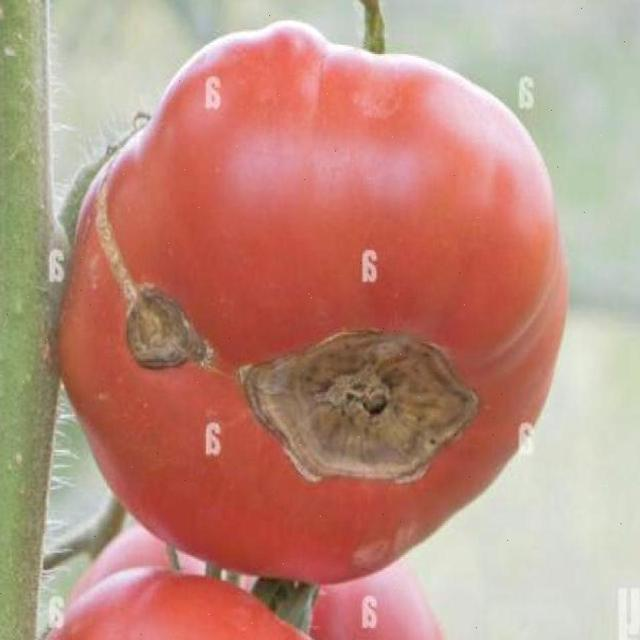Blossom End Rot Fruit: (64, 90, 247, 275)
